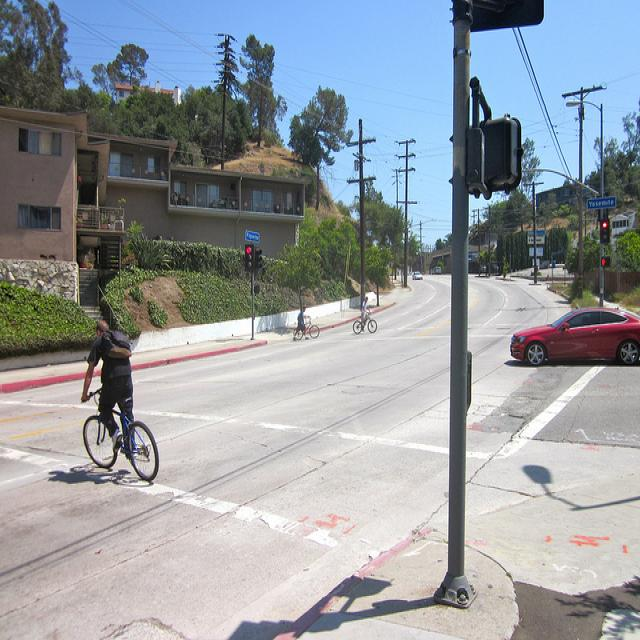Vehicle: (509, 308, 640, 363), (412, 272, 424, 281), (434, 266, 441, 274)
